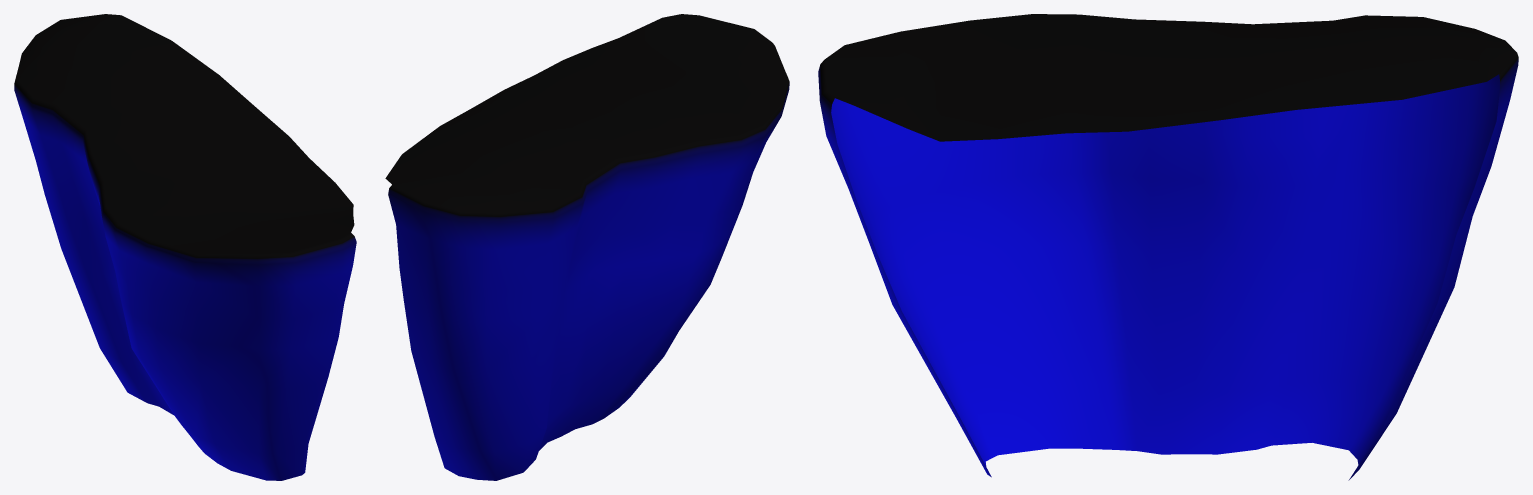
Rendered from Cliff_grassCovered3_GEO.fbx.
3 renders of one model, left to right at view 1: azimuth 30°, elevation 25°; view 2: azimuth 150°, elevation 25°; view 3: azimuth 270°, elevation 25°, orthographic. The views are drawn at different scales.
Visible parts, largest first — view 1: Cliff_grassCovered3_LOD0; view 2: Cliff_grassCovered3_LOD0; view 3: Cliff_grassCovered3_LOD0.
Part boxes in pixels (x1,y1,x2,y2): Cliff_grassCovered3_LOD0: (14, 14, 356, 480); Cliff_grassCovered3_LOD0: (385, 14, 789, 480); Cliff_grassCovered3_LOD0: (818, 14, 1518, 480).
Size of what is drawn, in the model's own units: 5.29 by 7.68 by 11.89.
